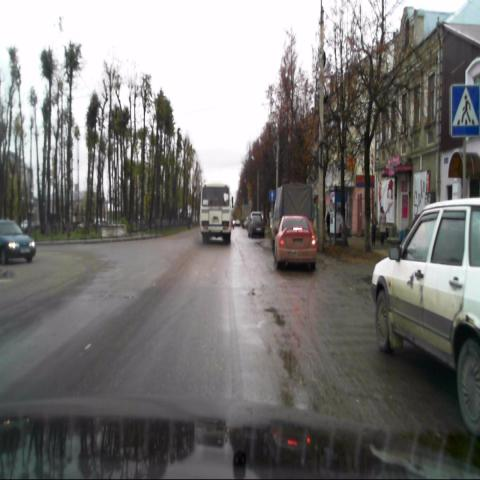5_19_1: (451, 85, 480, 136)
